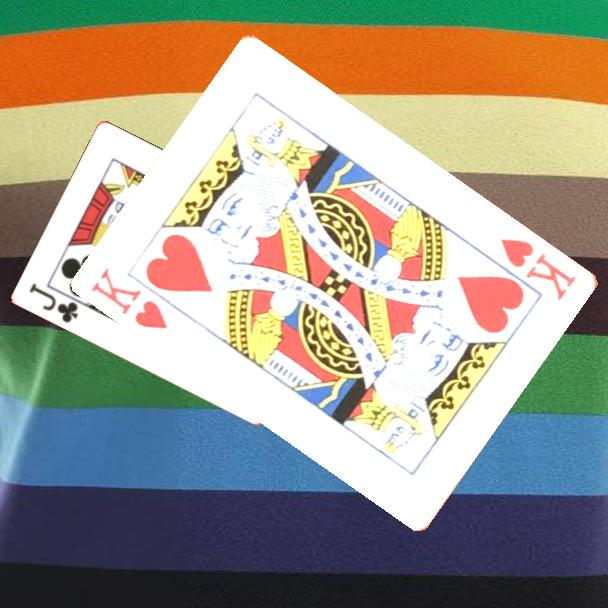c11: (26, 279, 82, 326)
h13: (88, 264, 172, 332), (498, 234, 580, 303)
